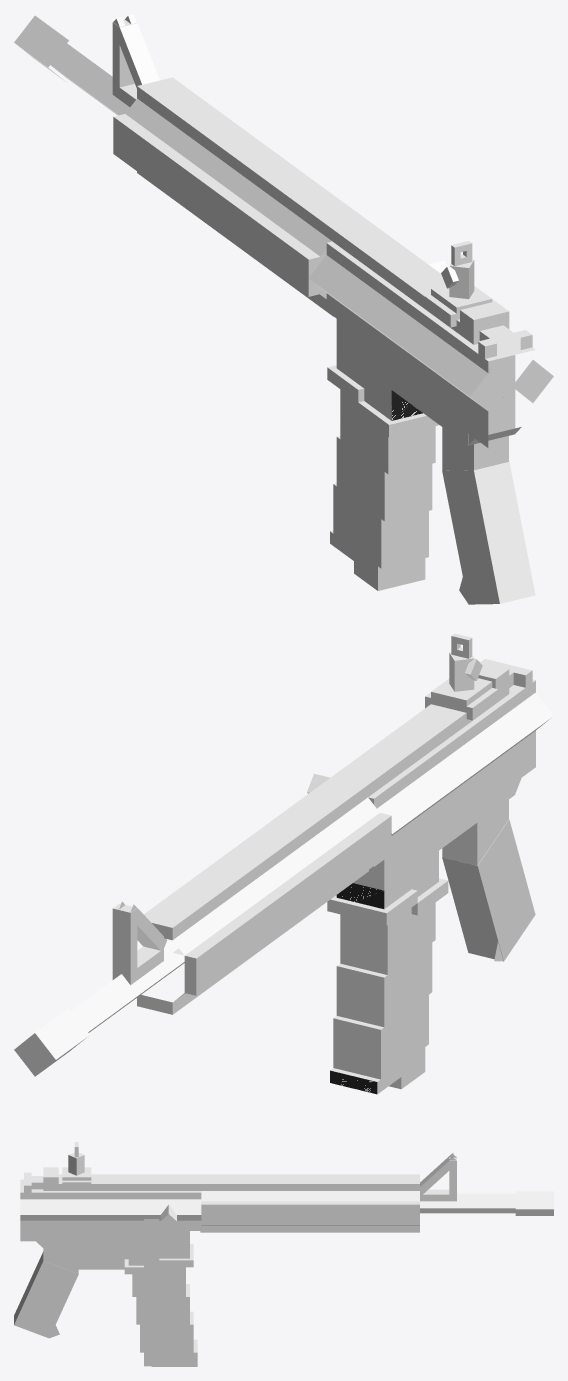
The model's file is aurorasarsenal_ar_15.glb.
The picture shows the model from 3 angles, top to bottom: view 1: azimuth 30°, elevation 25°; view 2: azimuth 150°, elevation 25°; view 3: azimuth 270°, elevation 25°; orthographic projection. The views are drawn at different scales.
Visible parts, largest first — view 1: Gun; view 2: Gun; view 3: Gun.
Boxes of the visible parts, x1,y1,x2,y2 form: Gun: (14, 14, 553, 604); Gun: (14, 633, 553, 1094); Gun: (14, 1142, 553, 1366).
Size of the model in its own units: 0.1129 by 0.4 by 0.8805.
Materials: 1 (1 with a texture image).
